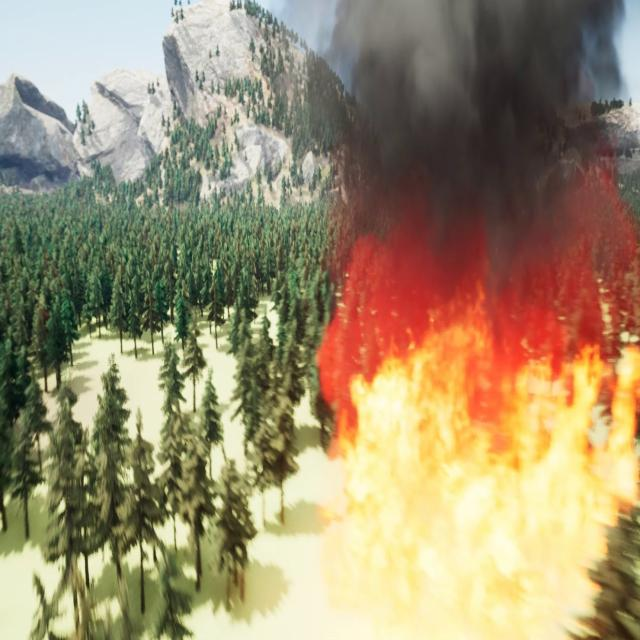fire: (318, 324, 639, 639)
smoke: (307, 0, 640, 319)
